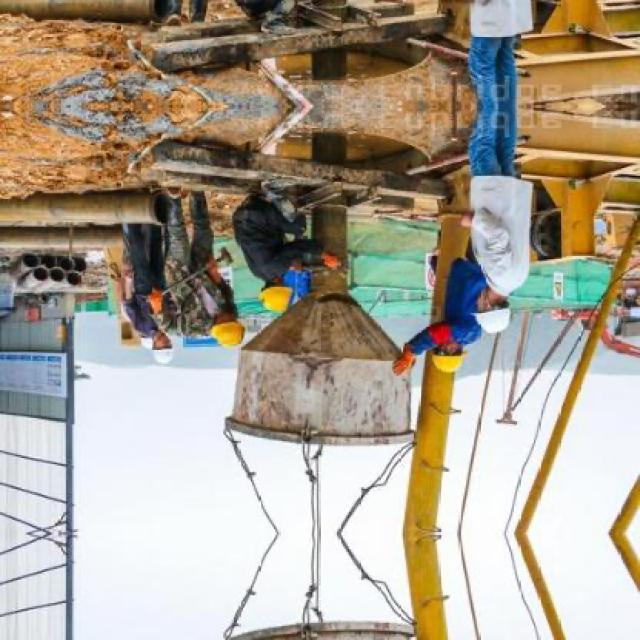con casco: (234, 239, 335, 306), (200, 284, 302, 350), (466, 270, 539, 338), (412, 318, 489, 378), (153, 316, 195, 367)
